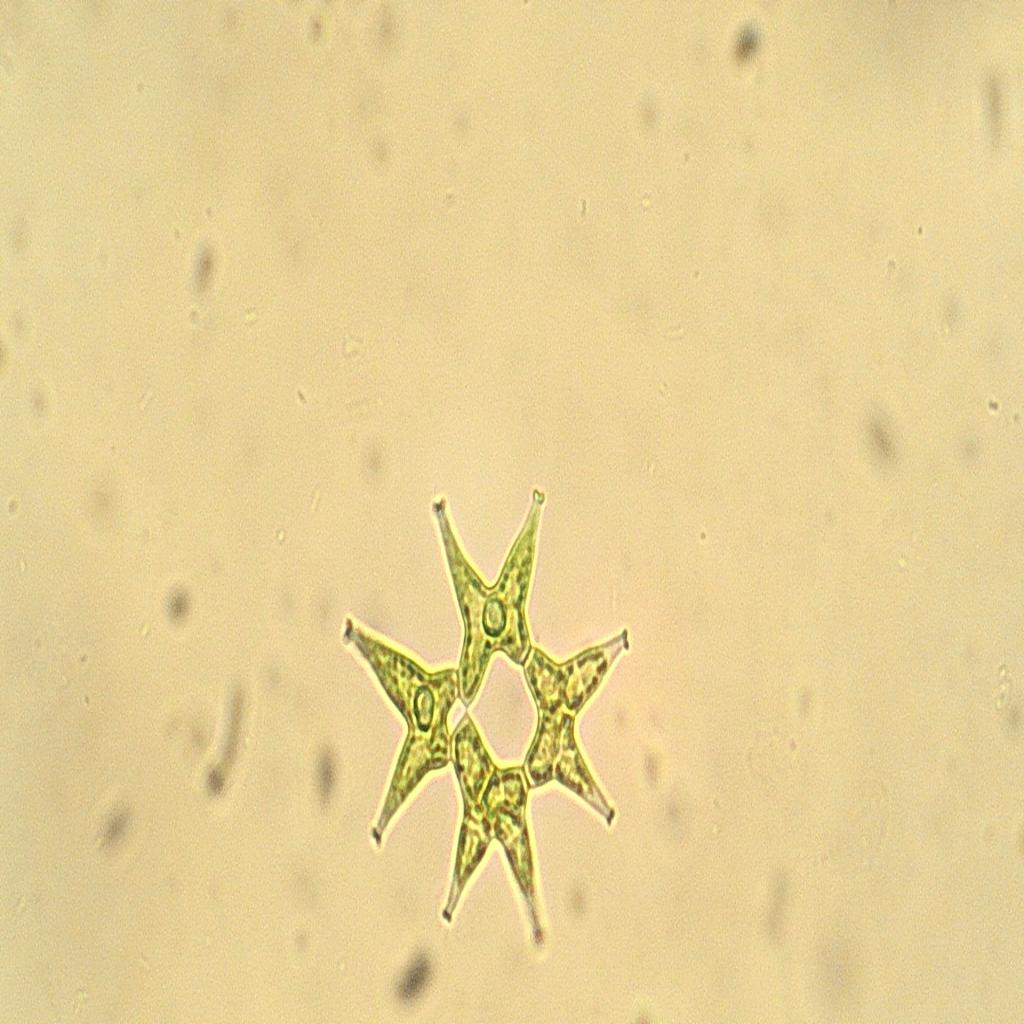Pediastrum_CF: (338, 475, 634, 982)
